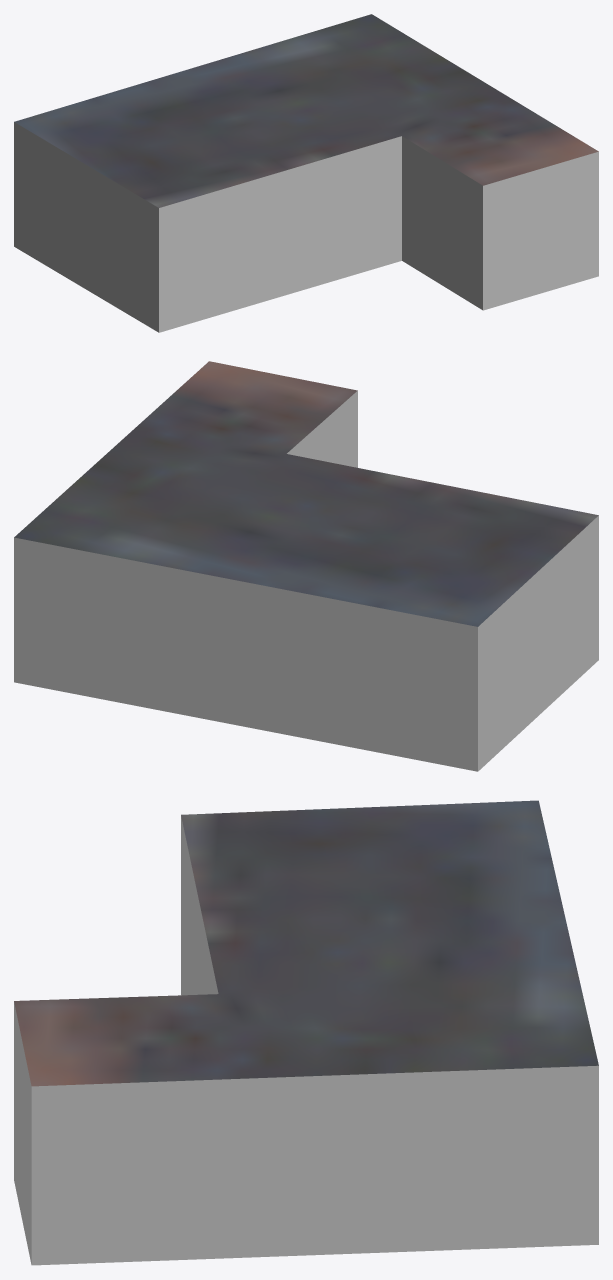
File: DEBW_0010007THWF.gltf
3 views of the same model, one above another, from view 1: azimuth 30°, elevation 25°; view 2: azimuth 150°, elevation 25°; view 3: azimuth 270°, elevation 25° (orthographic). The views are drawn at different scales.
Parts seen in each view (by area): view 1: Z_UP; view 2: Z_UP; view 3: Z_UP.
Part boxes in pixels (<box>): Z_UP: <box>14,14,598,332</box>; Z_UP: <box>14,361,598,771</box>; Z_UP: <box>14,800,598,1265</box>.
Bounding box in the file's own units: 5.39 × 1.57 × 4.66.
Materials: 2 (1 with a texture image).
